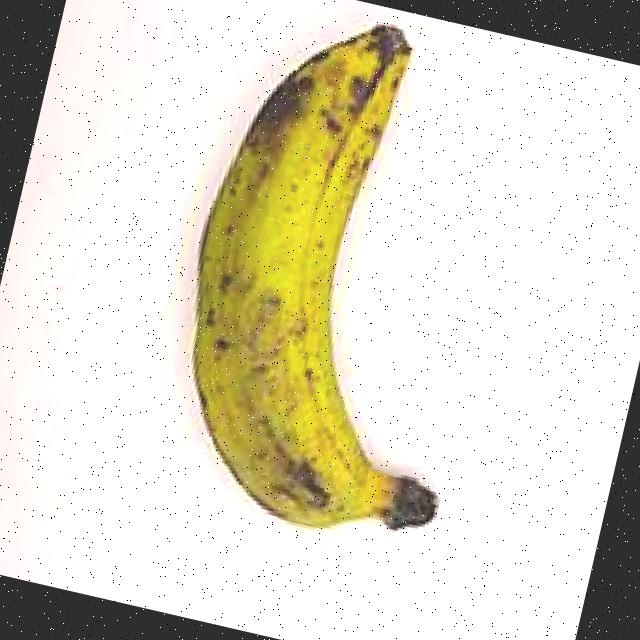Overripe: (105, 0, 569, 577)
